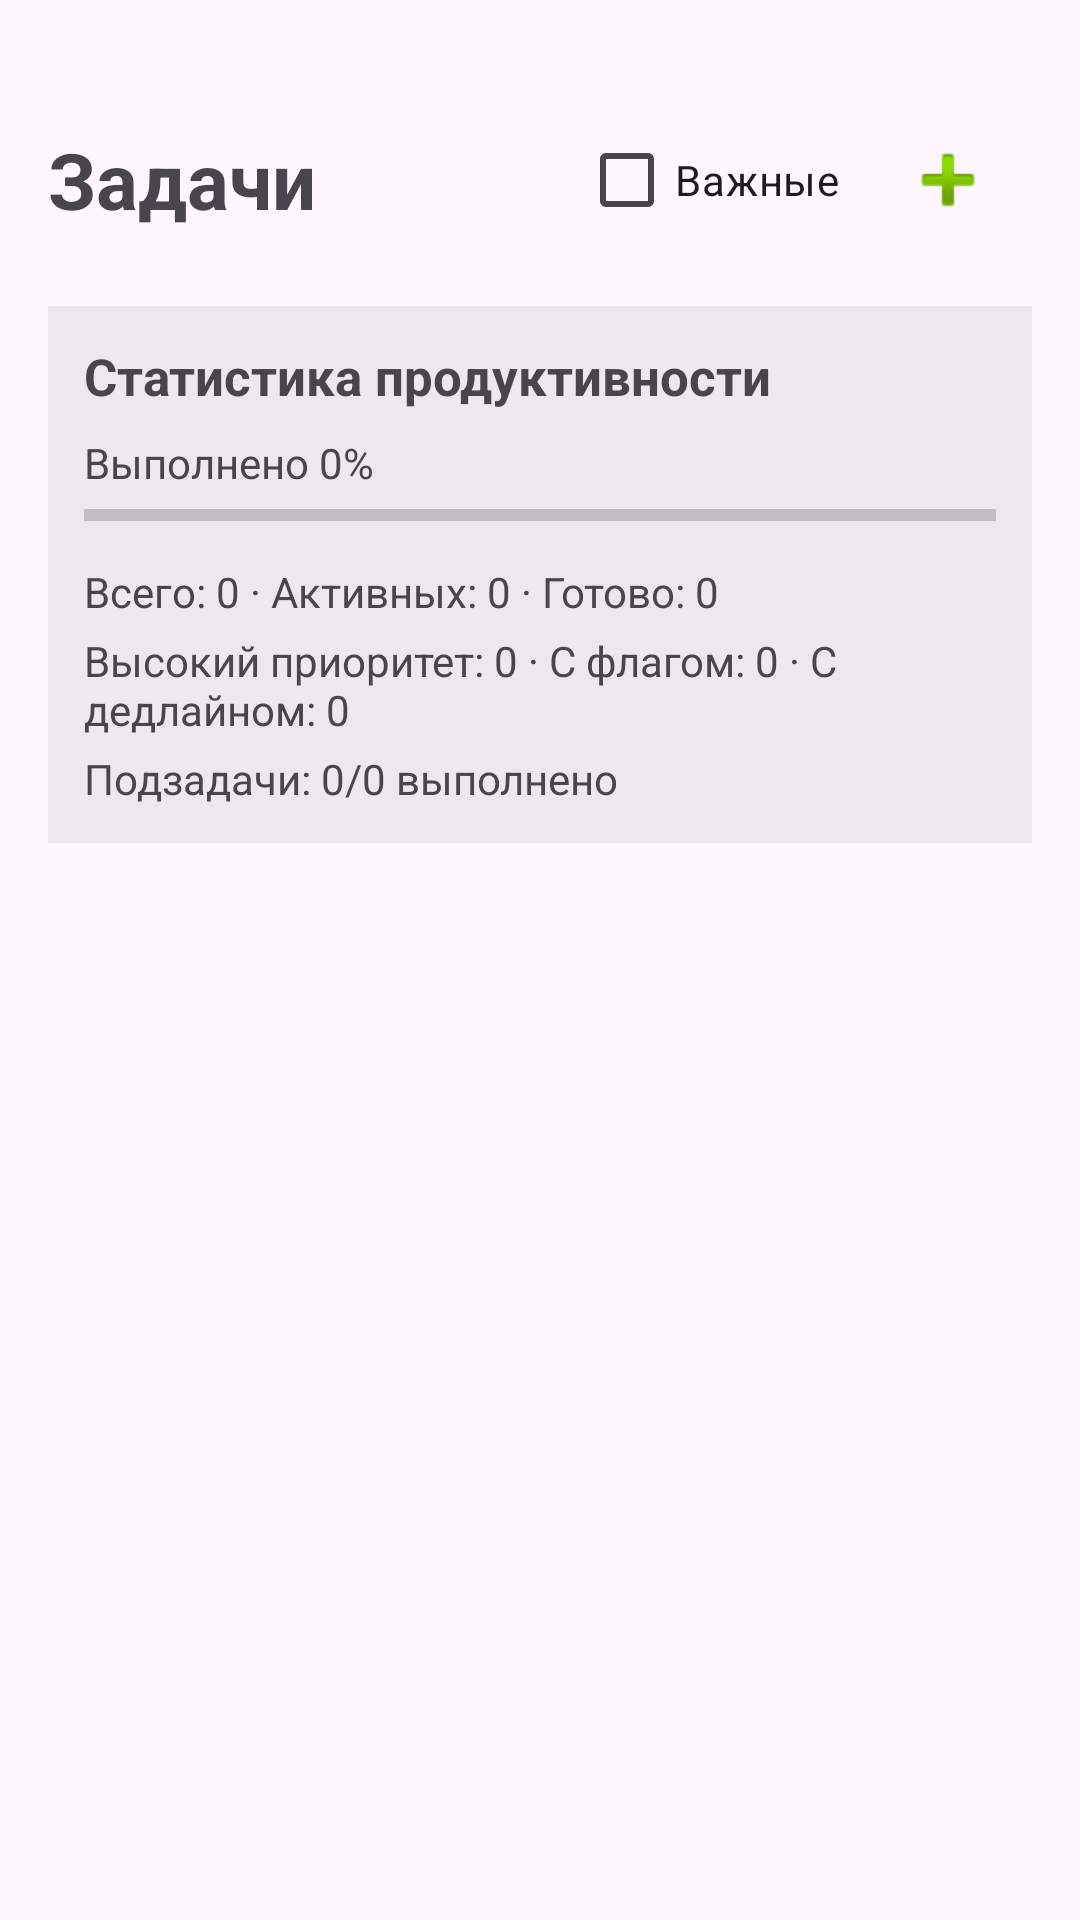

Point at icon controls on the screen. Image size 1080×1920, points as [x,y].
Добавить: [948,180]
